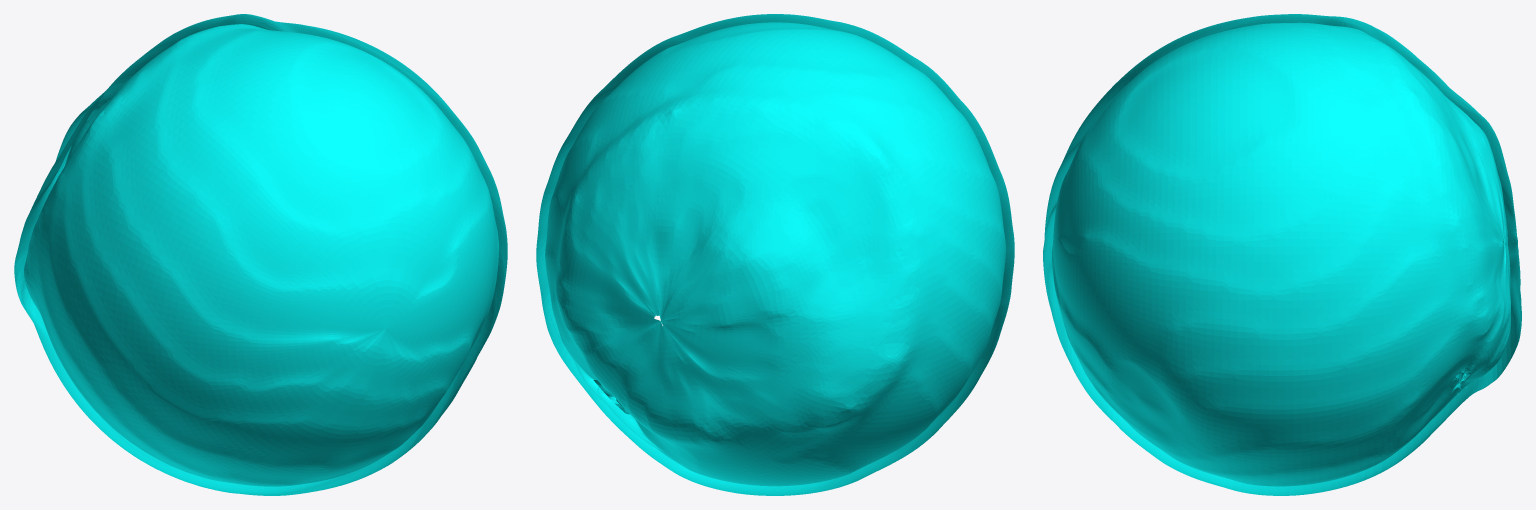
3 renders of one model, left to right at view 1: azimuth 30°, elevation 25°; view 2: azimuth 150°, elevation 25°; view 3: azimuth 270°, elevation 25°, orthographic.
Visible parts, largest first — view 1: Renderer Node; view 2: Renderer Node; view 3: Renderer Node.
Part boxes in pixels (x1,y1,x2,y2): Renderer Node: (14,14,507,495); Renderer Node: (536,14,1014,495); Renderer Node: (1043,14,1521,495).
Size of the model in its own units: 3.53e+16 by 3.52e+16 by 3.52e+16.
